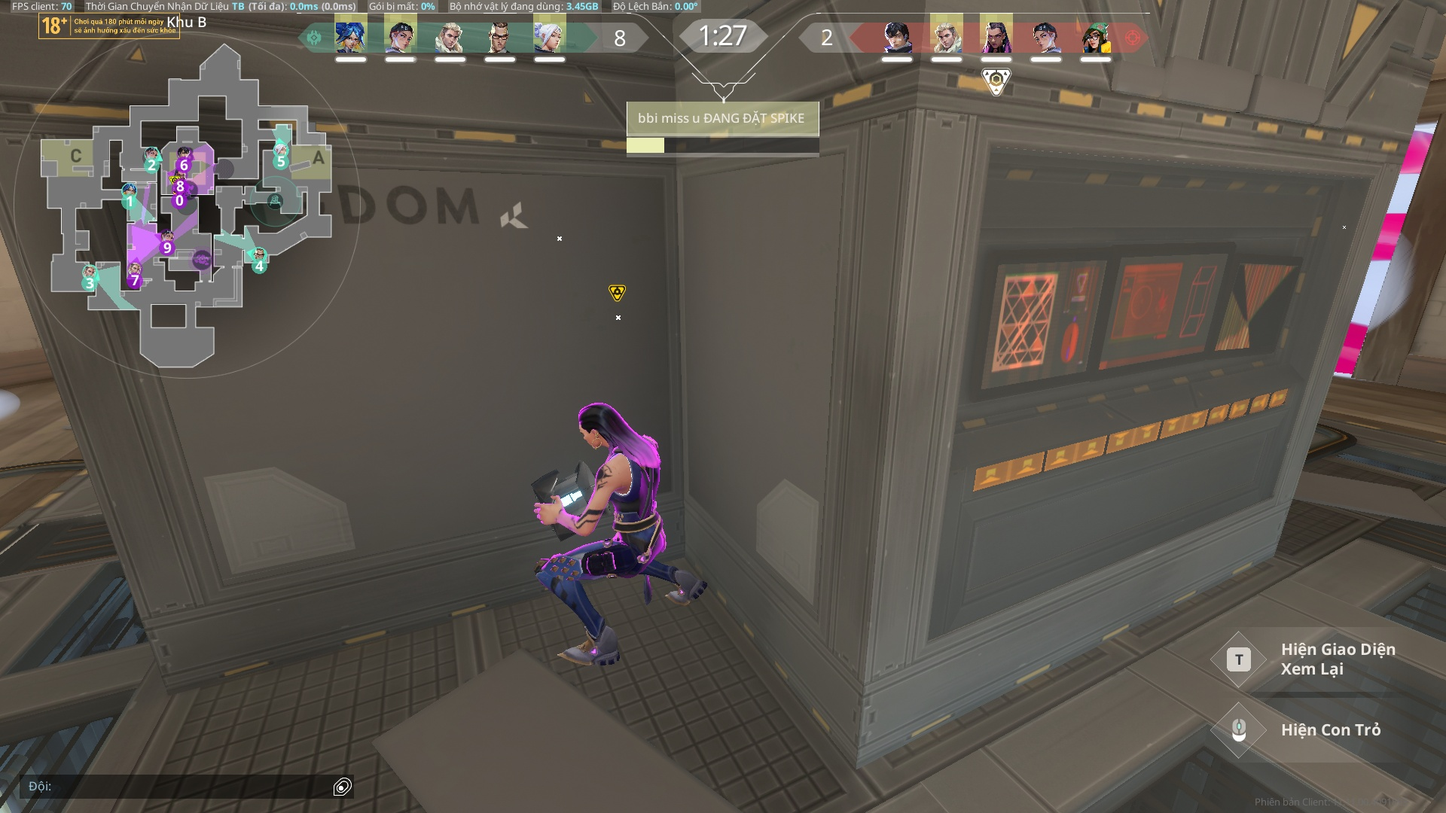body: (594, 446, 668, 521)
head: (570, 400, 623, 450)
